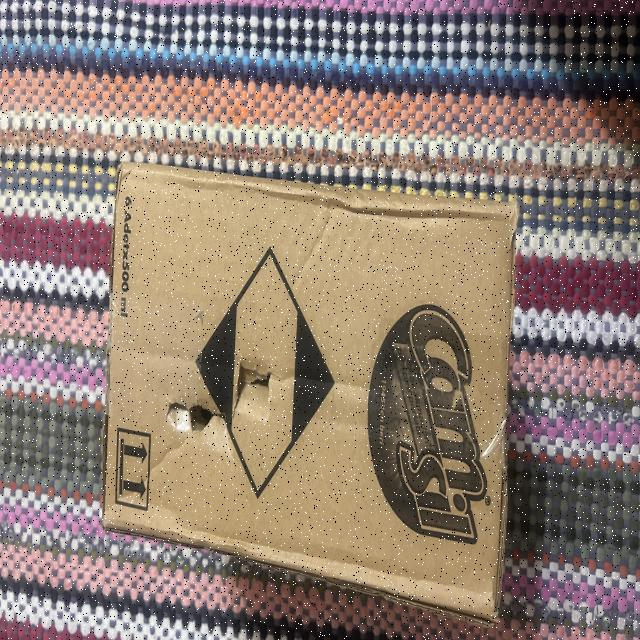damaged: (102, 161, 516, 624), (162, 347, 278, 449)
